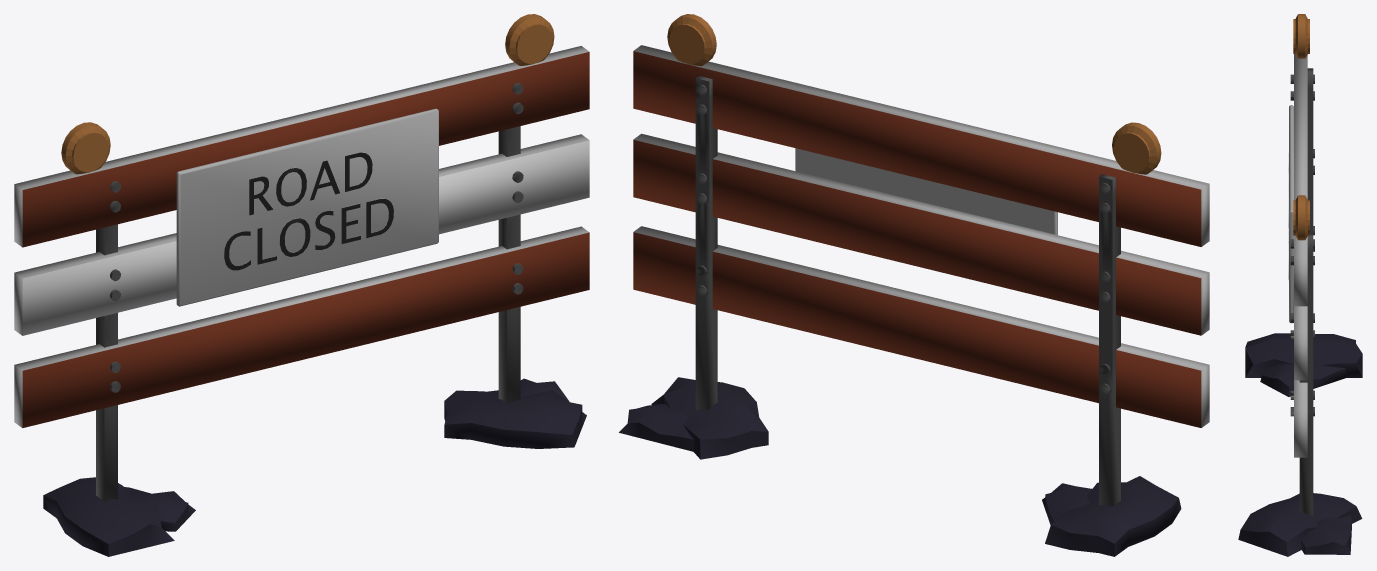
Rendered from barricade2.glb.
3 renders of one model, left to right at view 1: azimuth 30°, elevation 25°; view 2: azimuth 150°, elevation 25°; view 3: azimuth 270°, elevation 25°, orthographic. The views are drawn at different scales.
Parts seen in each view (by area): view 1: pCube16_w; view 2: pCube16_w; view 3: pCube16_w.
Boxes of the visible parts, left/top/right/bottom form: pCube16_w: left=14, top=14, right=589, bottom=556; pCube16_w: left=619, top=14, right=1209, bottom=556; pCube16_w: left=1238, top=14, right=1362, bottom=556.
Size of the model in its own units: 2.2 by 1.5 by 0.4977.
